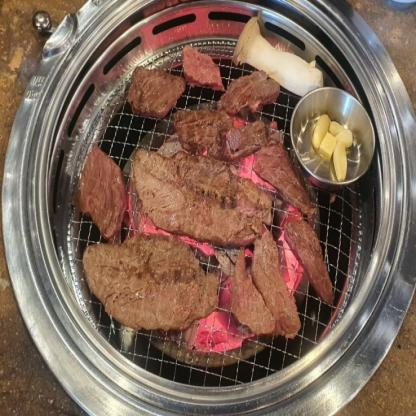Carne: (129, 146, 276, 252), (83, 230, 221, 336), (283, 200, 348, 312), (250, 223, 312, 340), (249, 138, 328, 222), (118, 270, 224, 331), (75, 140, 135, 242), (170, 106, 253, 163), (231, 254, 280, 349), (123, 54, 182, 122), (212, 70, 284, 114), (178, 44, 234, 98)
